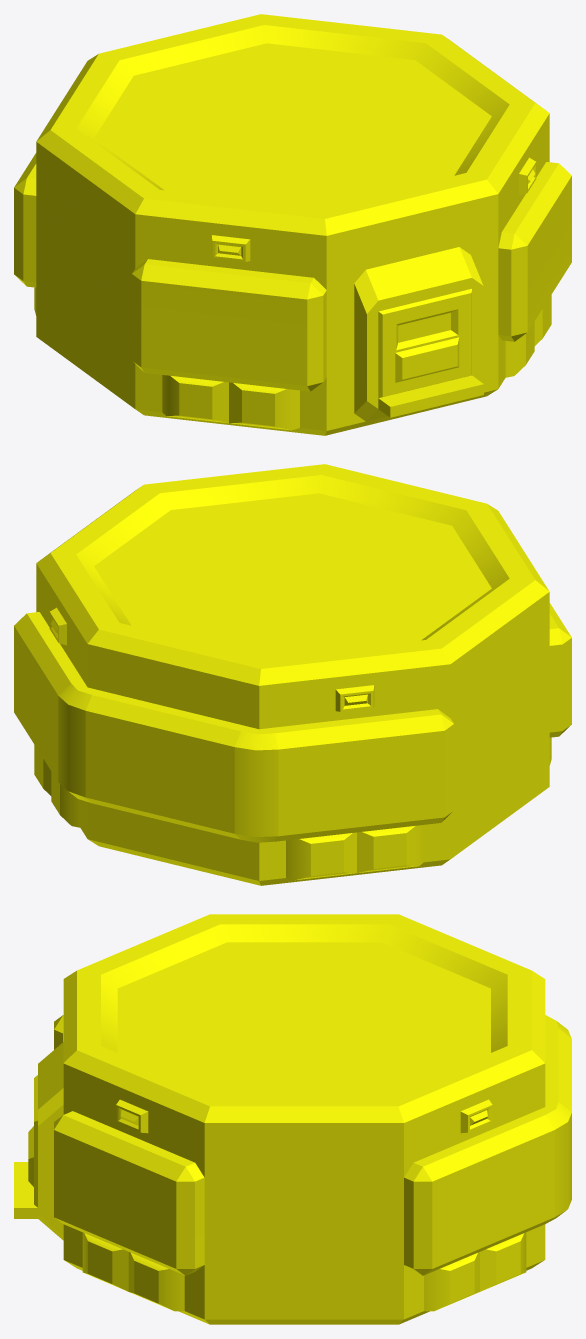
Rendered from kaykit-basemodule-b.glb.
The picture shows the model from 3 angles, top to bottom: view 1: azimuth 30°, elevation 25°; view 2: azimuth 150°, elevation 25°; view 3: azimuth 270°, elevation 25°; orthographic projection.
Visible parts, largest first — view 1: basemodule_B; view 2: basemodule_B; view 3: basemodule_B.
Part boxes in pixels (x1=…): basemodule_B: x1=14, y1=14, x2=571, y2=435; basemodule_B: x1=14, y1=464, x2=571, y2=885; basemodule_B: x1=14, y1=914, x2=571, y2=1324.
Size of the model in its own units: 2.08 by 1 by 2.32.
